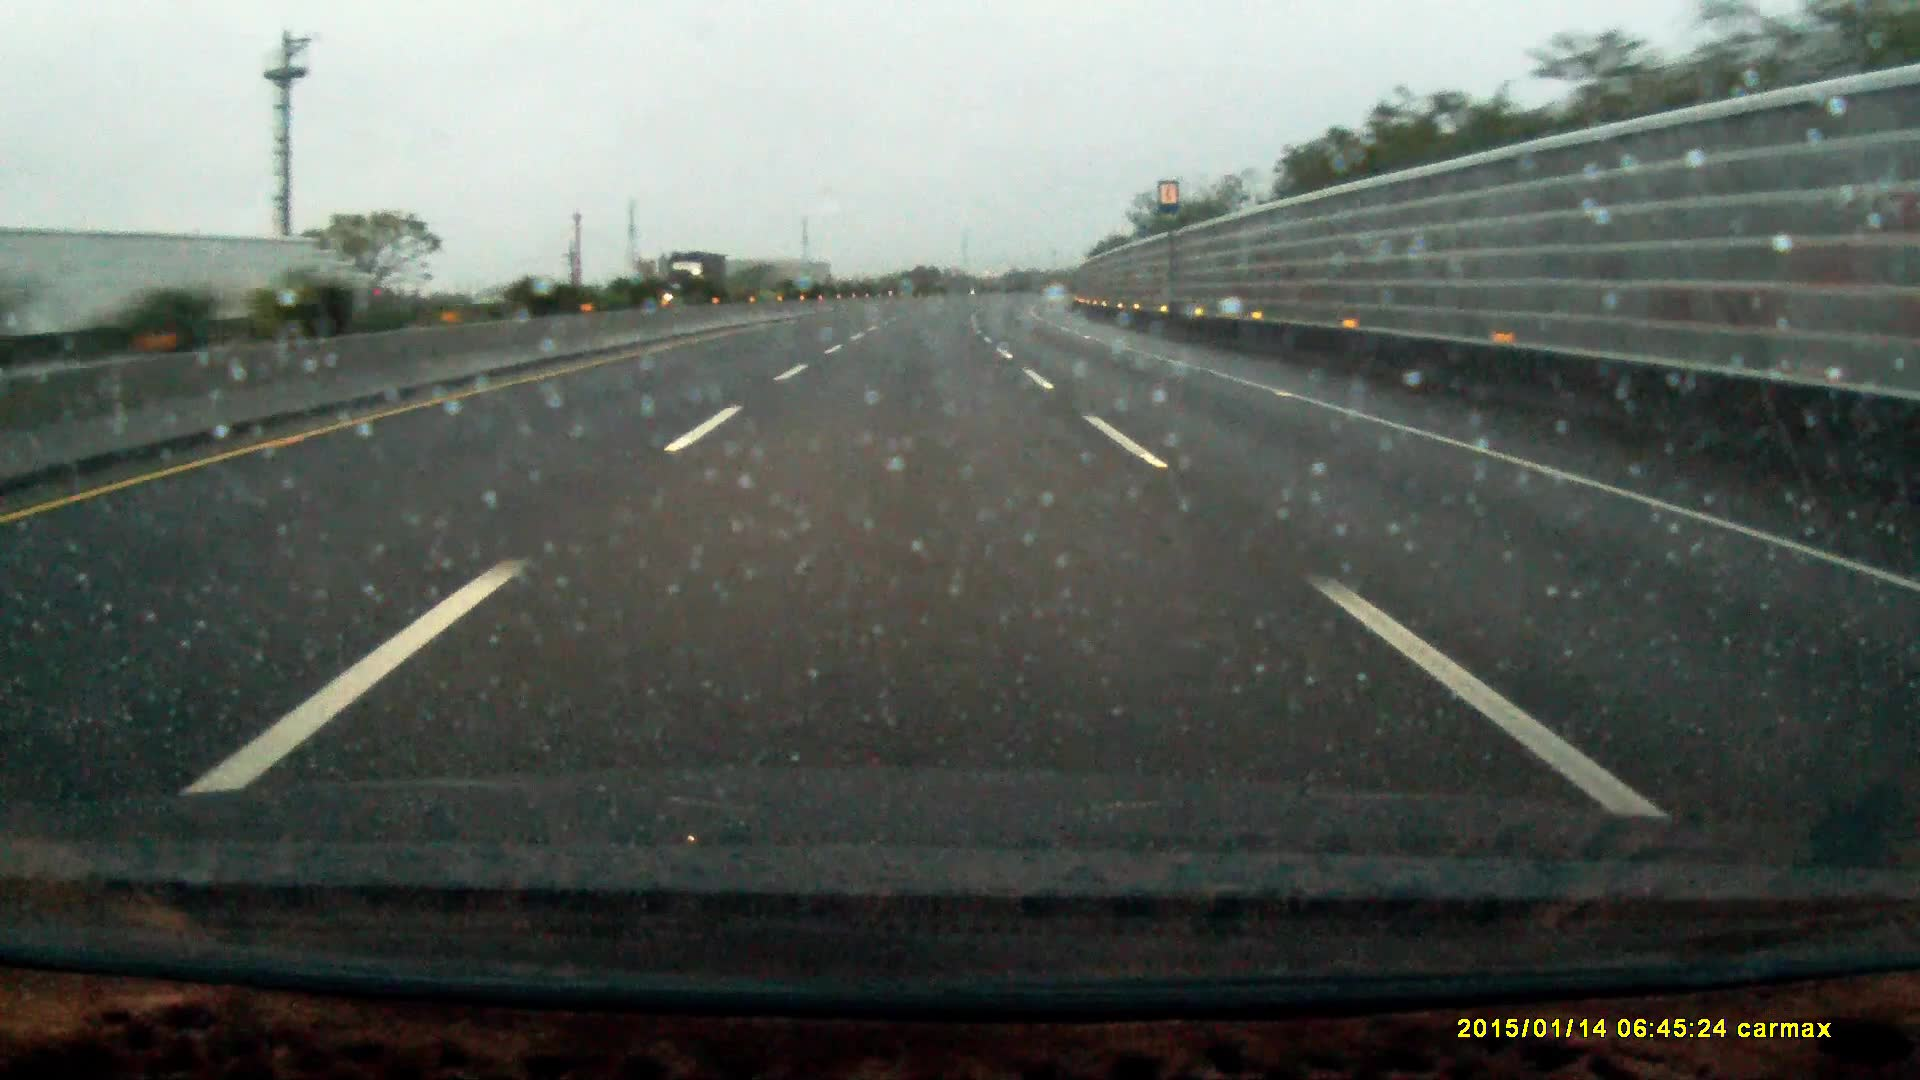vehicle: (669, 251, 729, 305)
